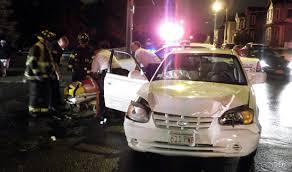Bonnet: (127, 78, 249, 116)
Bumper: (207, 124, 256, 158)
Light: (121, 99, 153, 128), (218, 105, 256, 128)
